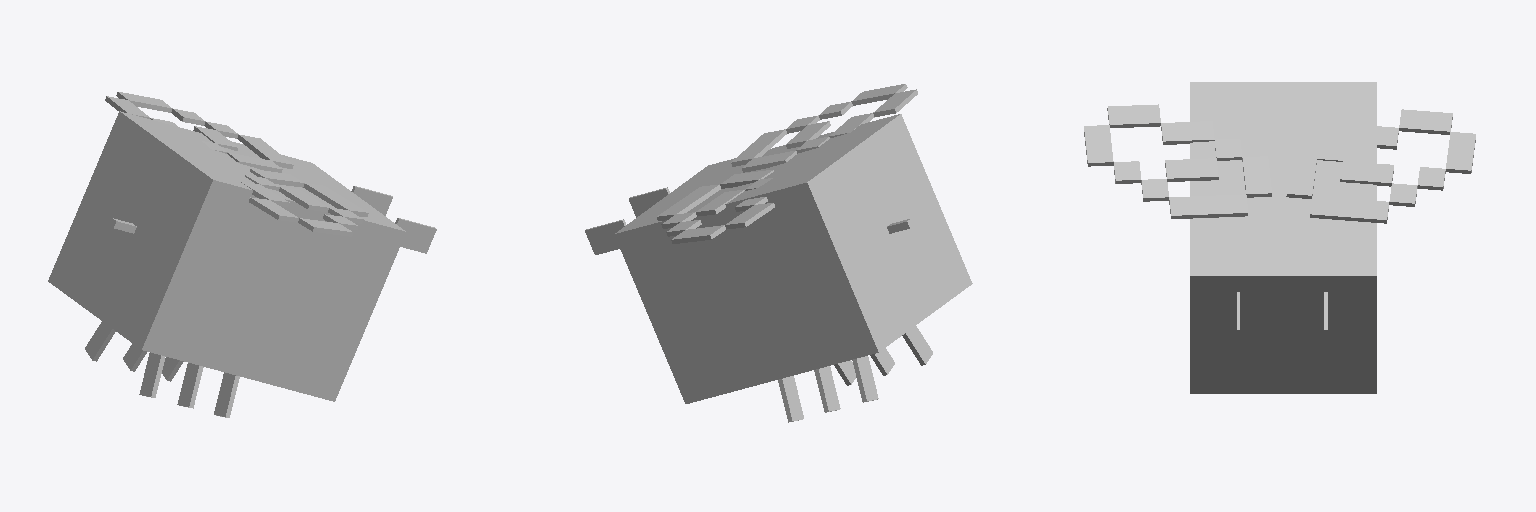
The model's file is Bee_ (19).obj.
3 renders of one model, left to right at view 1: azimuth 30°, elevation 25°; view 2: azimuth 150°, elevation 25°; view 3: azimuth 270°, elevation 25°, orthographic.
Visible parts, largest first — view 1: b_Bee_MAT_0, l_Bee_MAT_0, r_Bee_MAT_0; view 2: b_Bee_MAT_0, l_Bee_MAT_0, r_Bee_MAT_0; view 3: b_Bee_MAT_0, l_Bee_MAT_0, r_Bee_MAT_0.
Boxes of the visible parts, <box> form: b_Bee_MAT_0: <box>48,111,436,417</box>; l_Bee_MAT_0: <box>241,169,368,236</box>; r_Bee_MAT_0: <box>105,92,293,172</box>; b_Bee_MAT_0: <box>585,114,972,422</box>; l_Bee_MAT_0: <box>731,84,917,172</box>; r_Bee_MAT_0: <box>657,170,774,243</box>; b_Bee_MAT_0: <box>1190,82,1376,393</box>; l_Bee_MAT_0: <box>1084,104,1271,218</box>; r_Bee_MAT_0: <box>1286,109,1475,223</box>.
Bounding box in the file's own units: 0.3081 × 0.2413 × 0.3284.